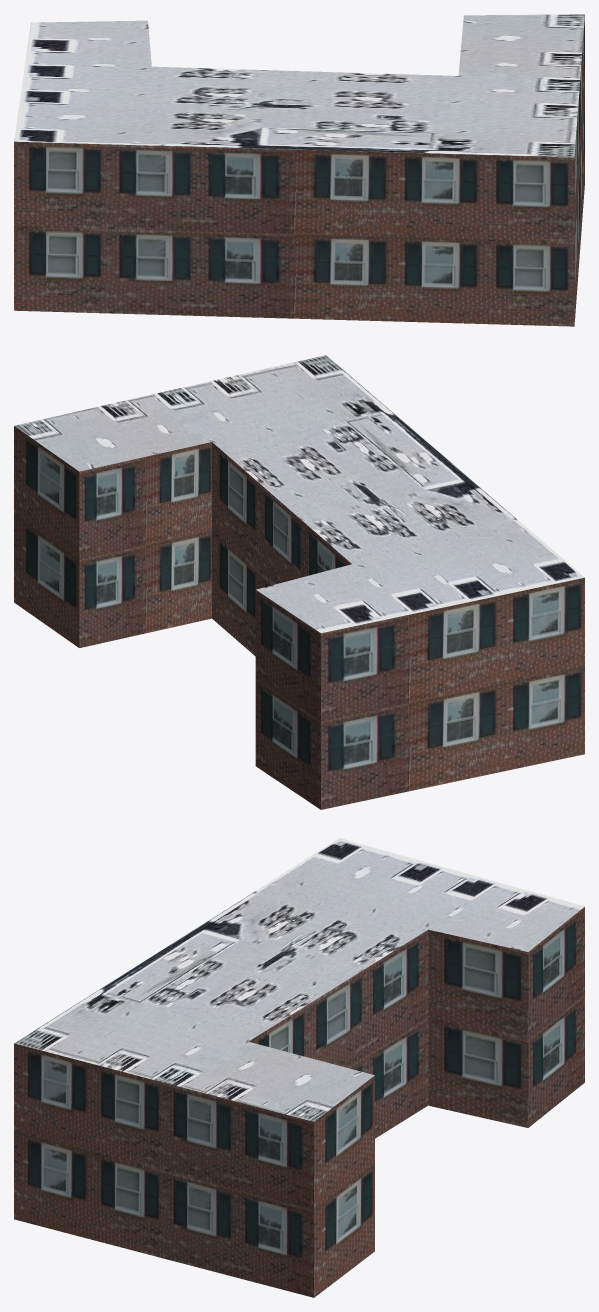
File: ResTex__3481.fbx
The picture shows the model from 3 angles, top to bottom: view 1: azimuth 30°, elevation 25°; view 2: azimuth 150°, elevation 25°; view 3: azimuth 270°, elevation 25°; orthographic projection. The views are drawn at different scales.
Parts seen in each view (by area): view 1: CityEngineMaterial_14_m, CityEngineMaterial_8_m; view 2: CityEngineMaterial_14_m, CityEngineMaterial_8_m; view 3: CityEngineMaterial_14_m, CityEngineMaterial_8_m.
Part boxes in pixels (x1,y1,x2,y2): CityEngineMaterial_14_m: (14,17,584,326); CityEngineMaterial_8_m: (14,14,584,157); CityEngineMaterial_14_m: (14,426,584,809); CityEngineMaterial_8_m: (14,355,584,633); CityEngineMaterial_14_m: (14,907,584,1297); CityEngineMaterial_8_m: (14,838,584,1121).
Size of the model in its own units: 20.76 by 6 by 17.64.
Materials: 2 (2 with a texture image).
